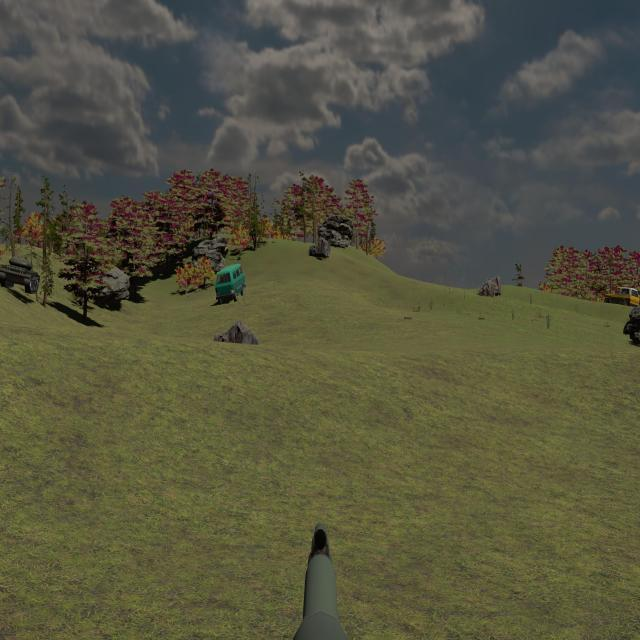Tank: (0, 256, 39, 292)
car: (215, 263, 246, 303), (604, 286, 639, 308)
